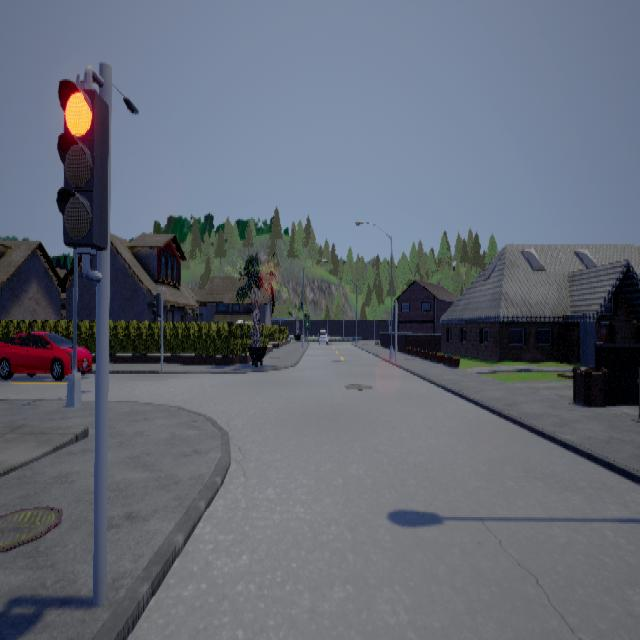red_light: (57, 64, 110, 281)
vehicle: (1, 328, 93, 379)
